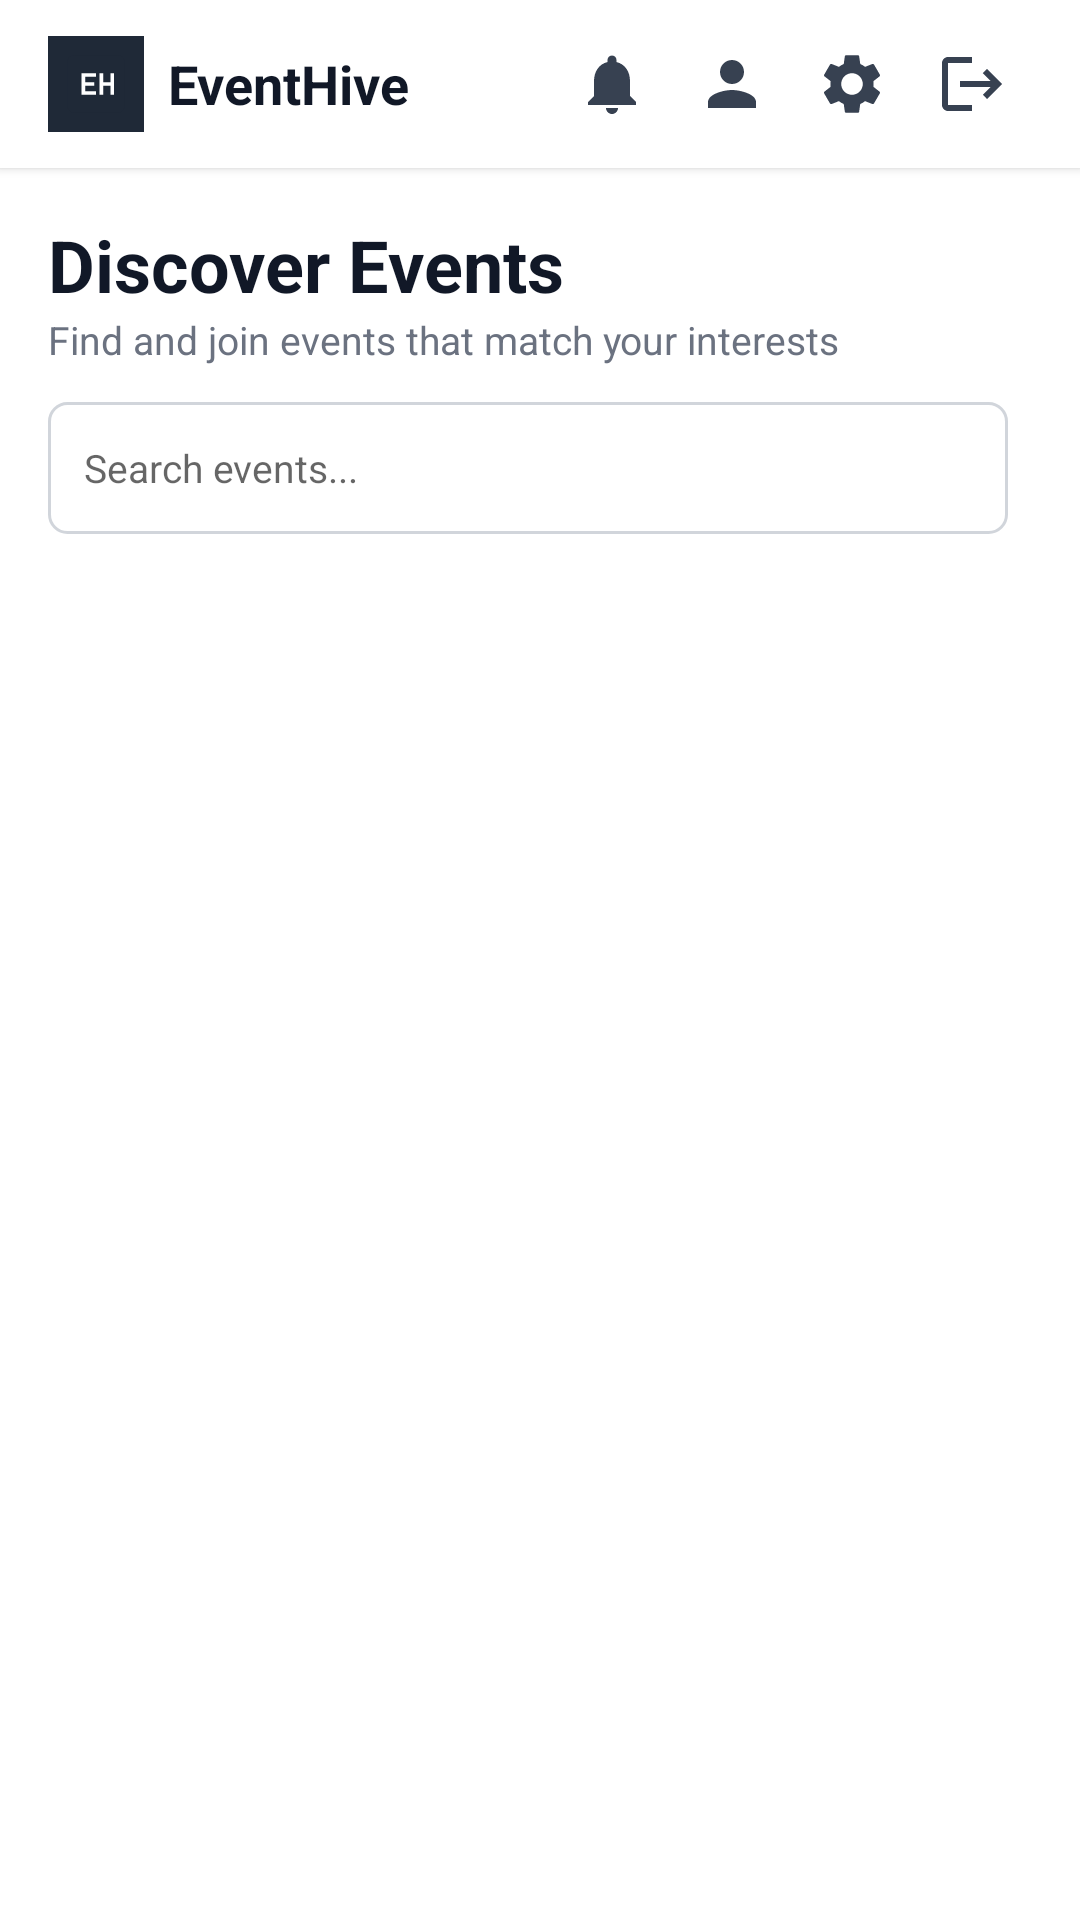

Point at icon controls on the screen. Image size 1080x1920, points as (x=x, y=y).
notifications: (x=612, y=84)
person: (x=732, y=84)
settings: (x=852, y=84)
